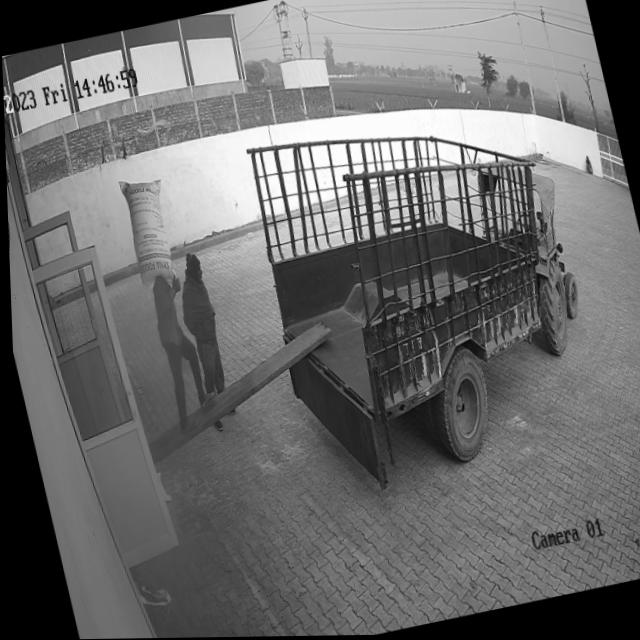sack: (117, 172, 182, 285)
